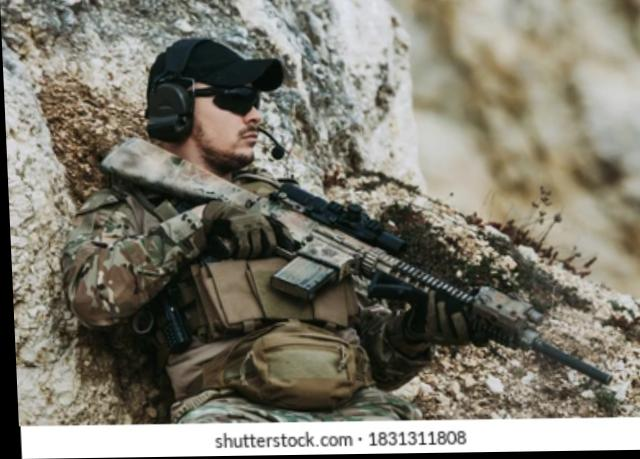other: (51, 41, 349, 424)
